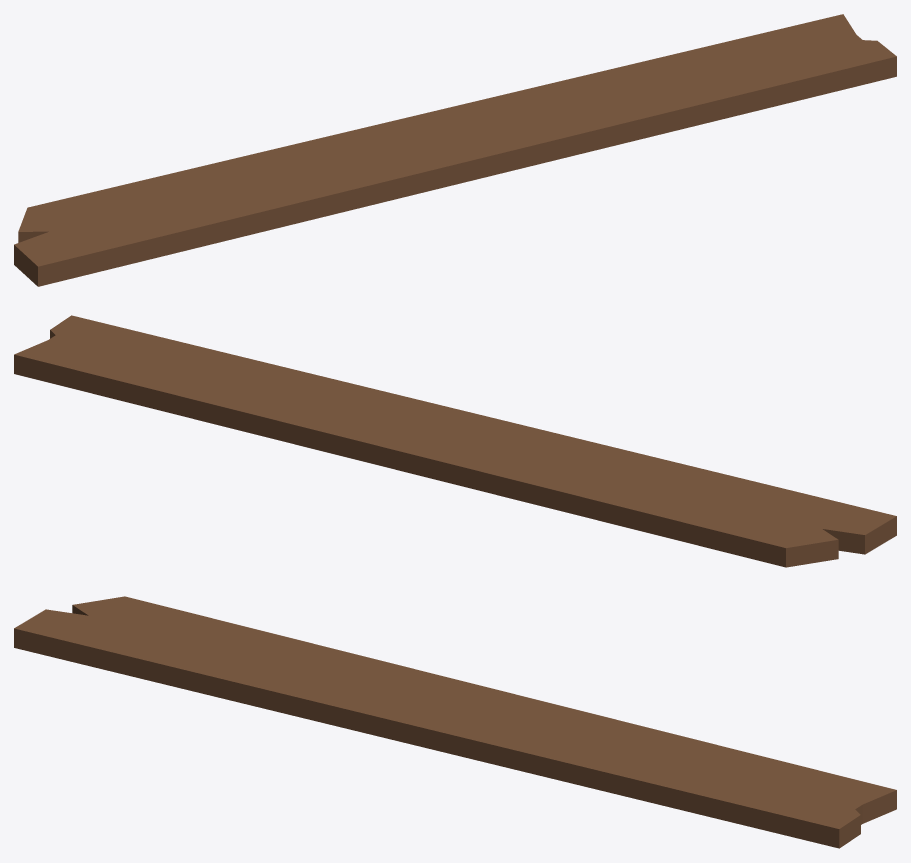
The model's file is Plank_02.fbx.
3 renders of one model, top to bottom at view 1: azimuth 30°, elevation 25°; view 2: azimuth 150°, elevation 25°; view 3: azimuth 330°, elevation 25°, orthographic. The views are drawn at different scales.
Parts seen in each view (by area): view 1: Plank_02_LOD0; view 2: Plank_02_LOD0; view 3: Plank_02_LOD0.
Part boxes in pixels (x1,y1,x2,y2): Plank_02_LOD0: (14,14,896,286); Plank_02_LOD0: (14,315,896,567); Plank_02_LOD0: (14,596,896,848).
Size of what is drawn, in the model's own units: 1.68 by 0.0377 by 0.2132.
